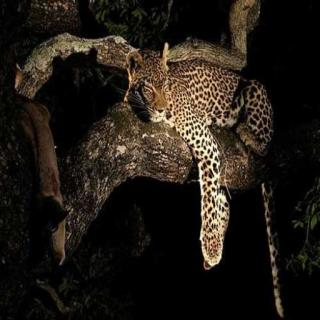Leopard: (101, 32, 287, 245)
